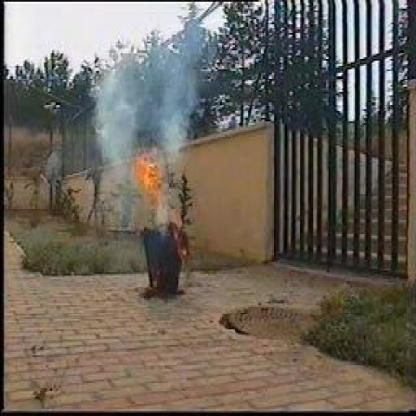-: (98, 53, 197, 155)
foggia-v2-map80-epoch100 - v1 4323: (136, 157, 167, 198)
